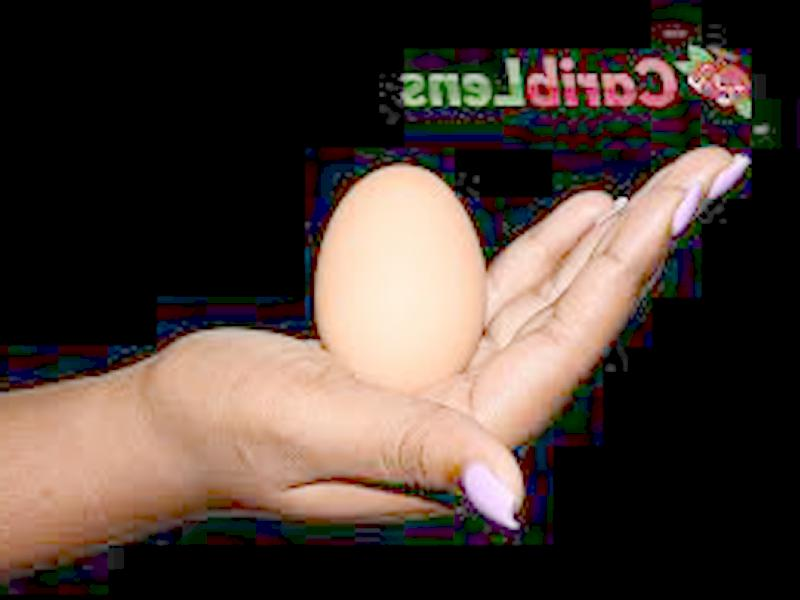Eggs: (314, 164, 487, 390)
